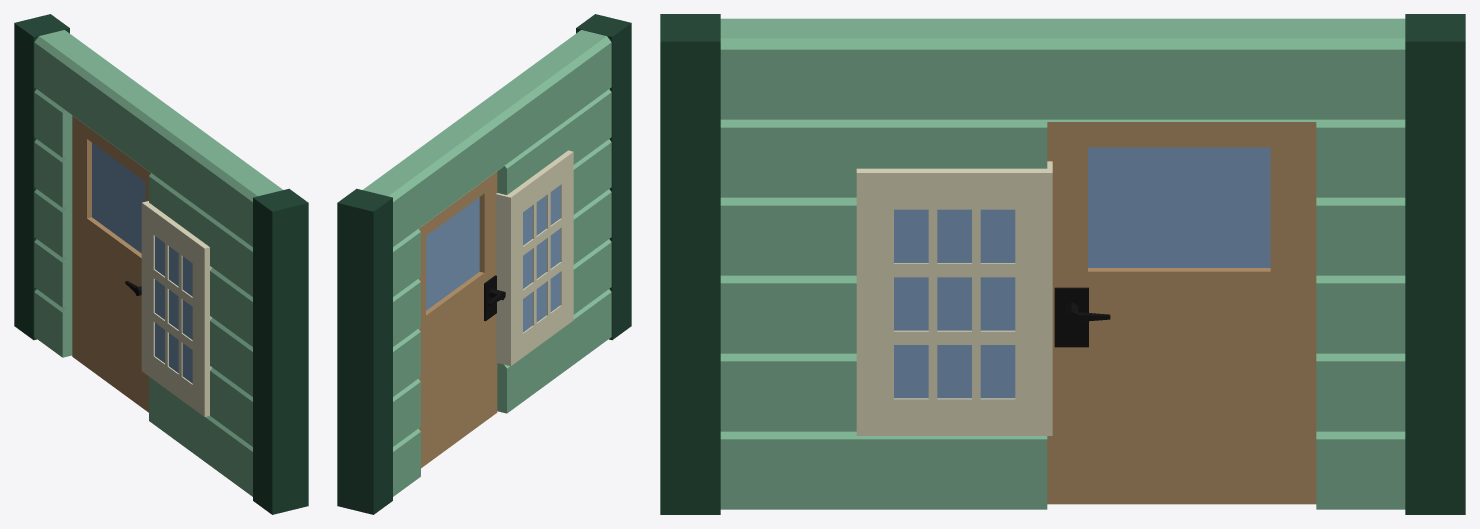
File: Door01_house3.obj
3 renders of one model, left to right at view 1: azimuth 30°, elevation 25°; view 2: azimuth 150°, elevation 25°; view 3: azimuth 270°, elevation 25°, orthographic. The views are drawn at different scales.
Visible parts, largest first — view 1: Door01_house03_Cube.004; view 2: Door01_house03_Cube.004; view 3: Door01_house03_Cube.004.
Part boxes in pixels (bbox=[...]): Door01_house03_Cube.004: bbox=[14, 14, 308, 514]; Door01_house03_Cube.004: bbox=[337, 14, 631, 514]; Door01_house03_Cube.004: bbox=[660, 14, 1465, 514].
Size of the model in its own units: 0.532 by 3.34 by 5.16.
